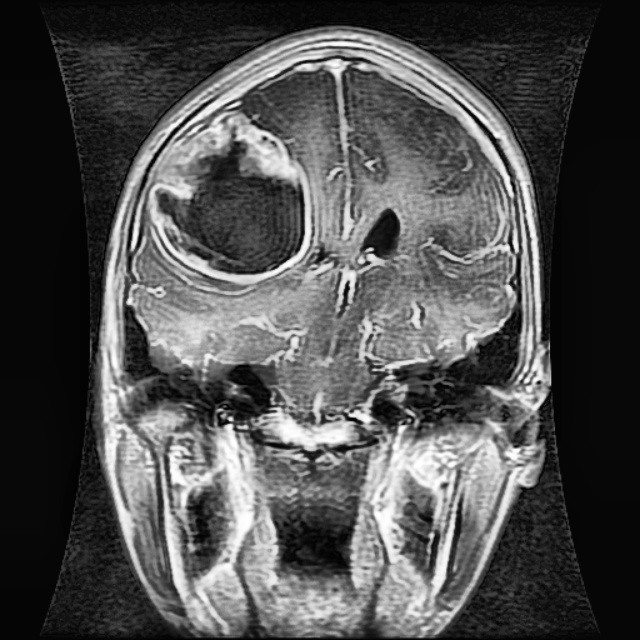Meningioma: (149, 105, 314, 283)
